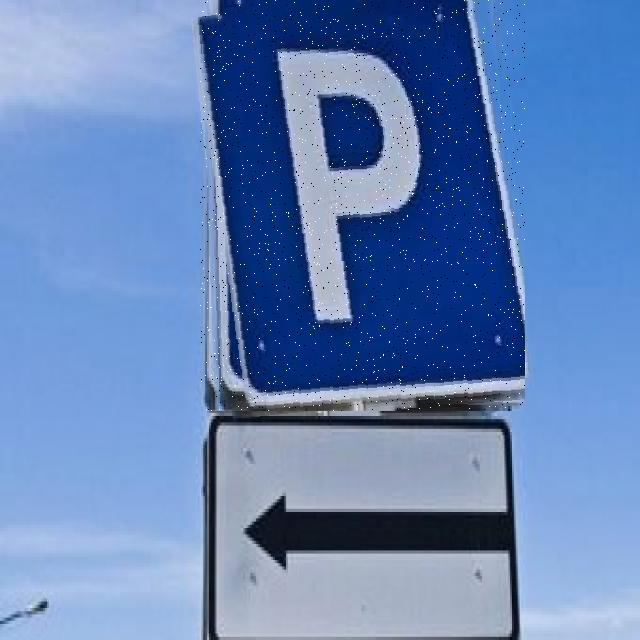parking: (200, 0, 525, 411)
